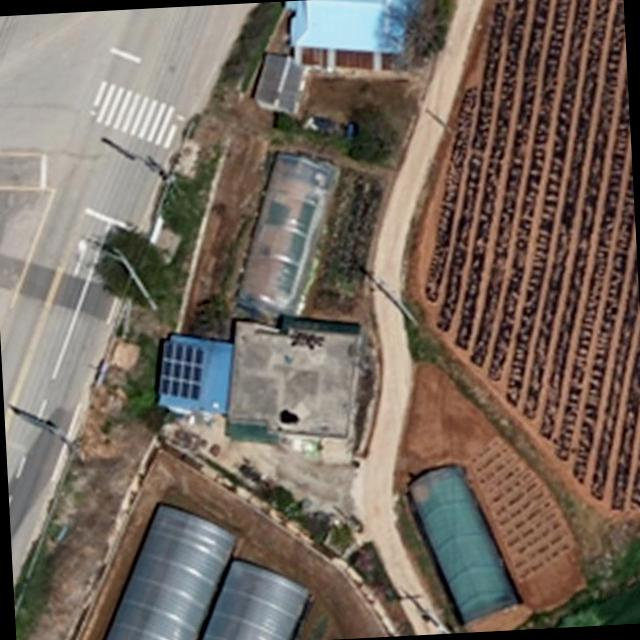solar: (152, 336, 209, 405)
